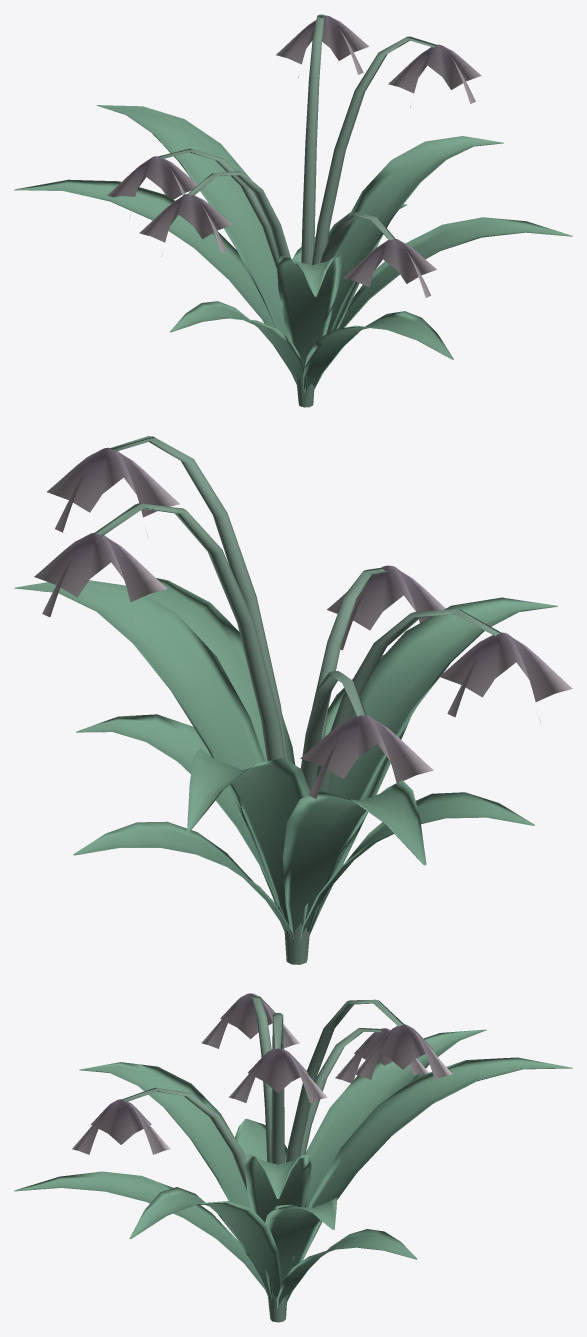
The model's file is silverbell.glb.
3 renders of one model, top to bottom at view 1: azimuth 30°, elevation 25°; view 2: azimuth 150°, elevation 25°; view 3: azimuth 270°, elevation 25°, orthographic. The views are drawn at different scales.
Visible parts, largest first — view 1: silverbell; view 2: silverbell; view 3: silverbell.
Part boxes in pixels (<box>): silverbell: <box>14,14,572,407</box>; silverbell: <box>14,436,572,964</box>; silverbell: <box>14,993,572,1322</box>.
Size of the model in its own units: 0.9437 by 0.7893 by 1.14.
